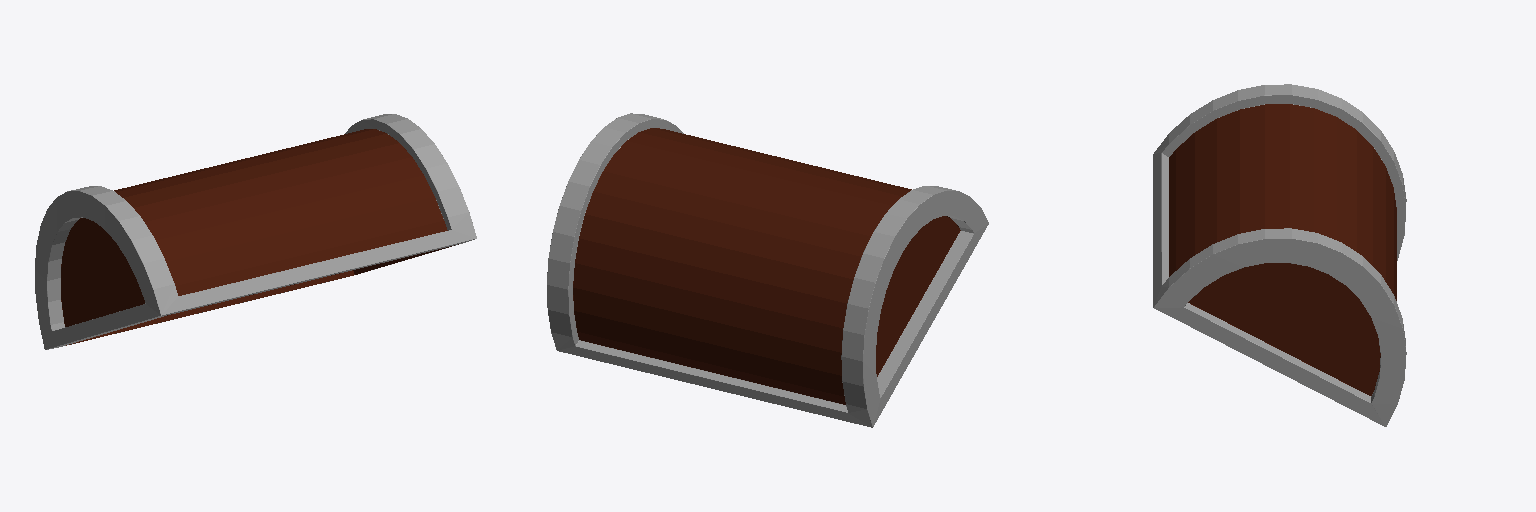
3 views of the same model, side by side, from view 1: azimuth 30°, elevation 25°; view 2: azimuth 150°, elevation 25°; view 3: azimuth 270°, elevation 25° (orthographic).
Parts seen in each view (by area): view 1: 蓋; view 2: 蓋; view 3: 蓋.
Part boxes in pixels (left/top/right/bottom): 蓋: left=35, top=114, right=476, bottom=349; 蓋: left=547, top=113, right=988, bottom=427; 蓋: left=1153, top=84, right=1406, bottom=426.
Bounding box in the file's own units: 2.97 × 1.69 × 2.05.
1 materials, 1 textured.